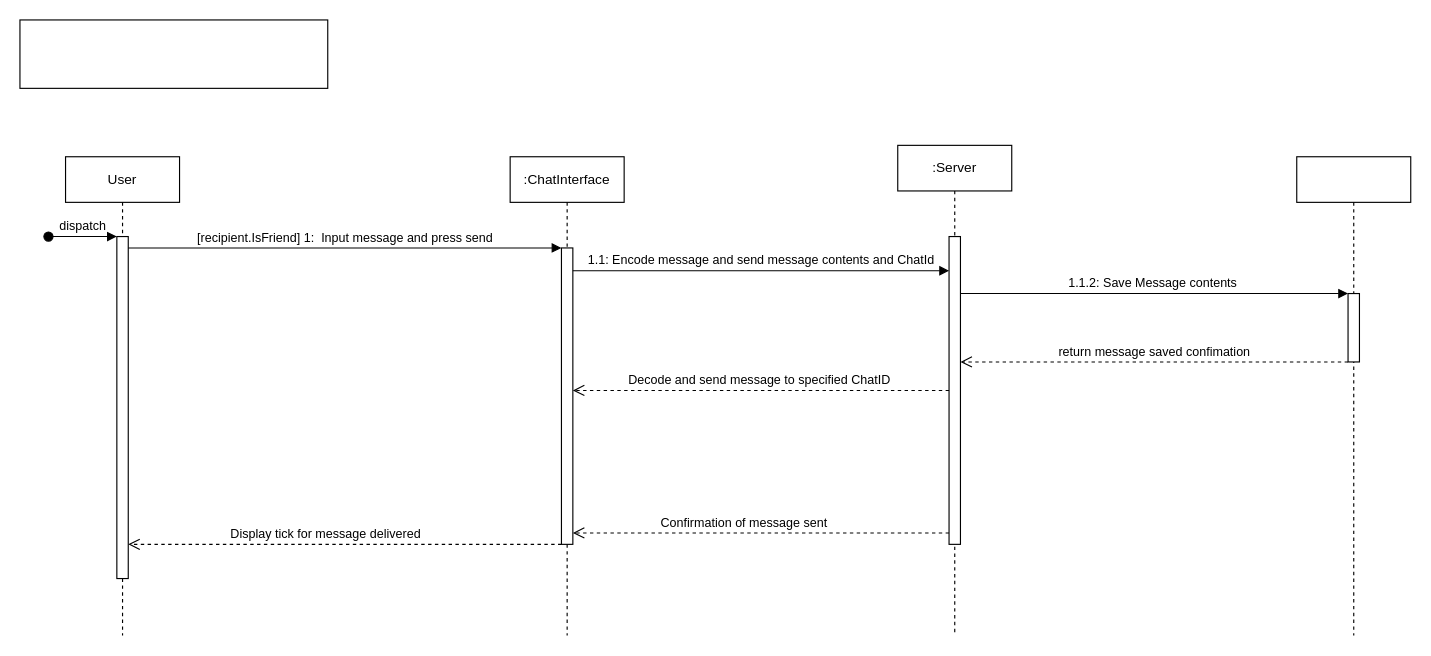
This 1431x656 diagram has some shape labels left out. Here are the shapes that lost their labels. From the top down, the centre of each, then its label:
At (173,53): "Sending Messages".
At (1353,396): ":Database".
